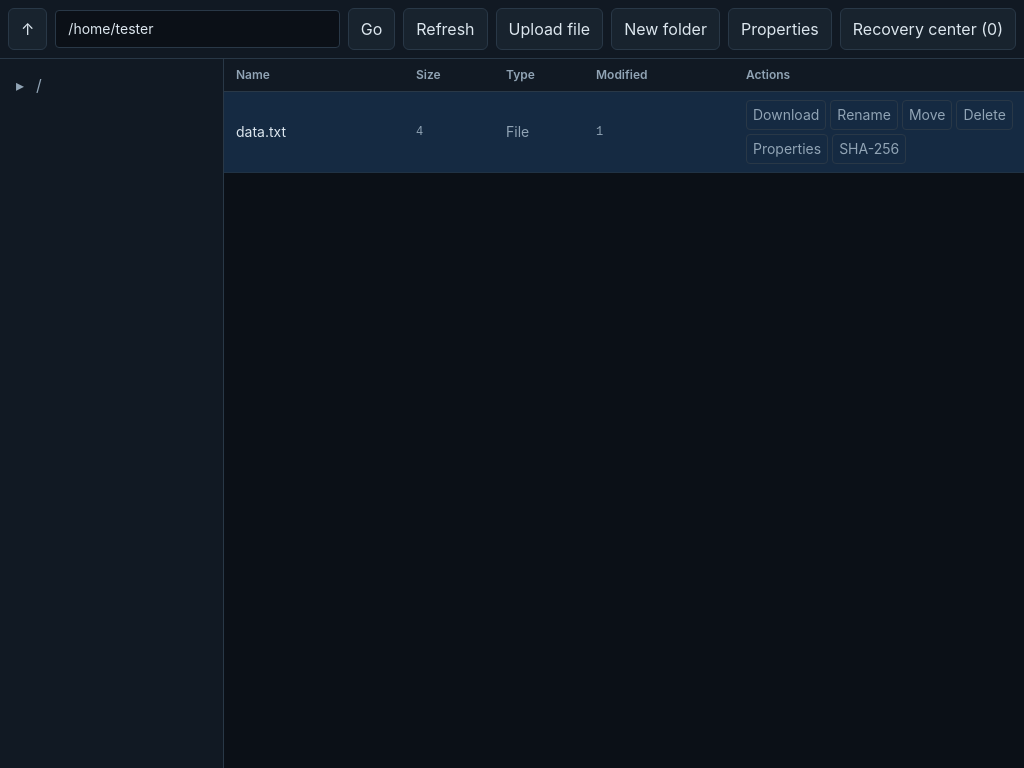
Test: ManualSftpWorkspace › closes the confirmation after a file deletion succeeds
Step 1. Press Delete in the table, box [224, 59, 1023, 173]
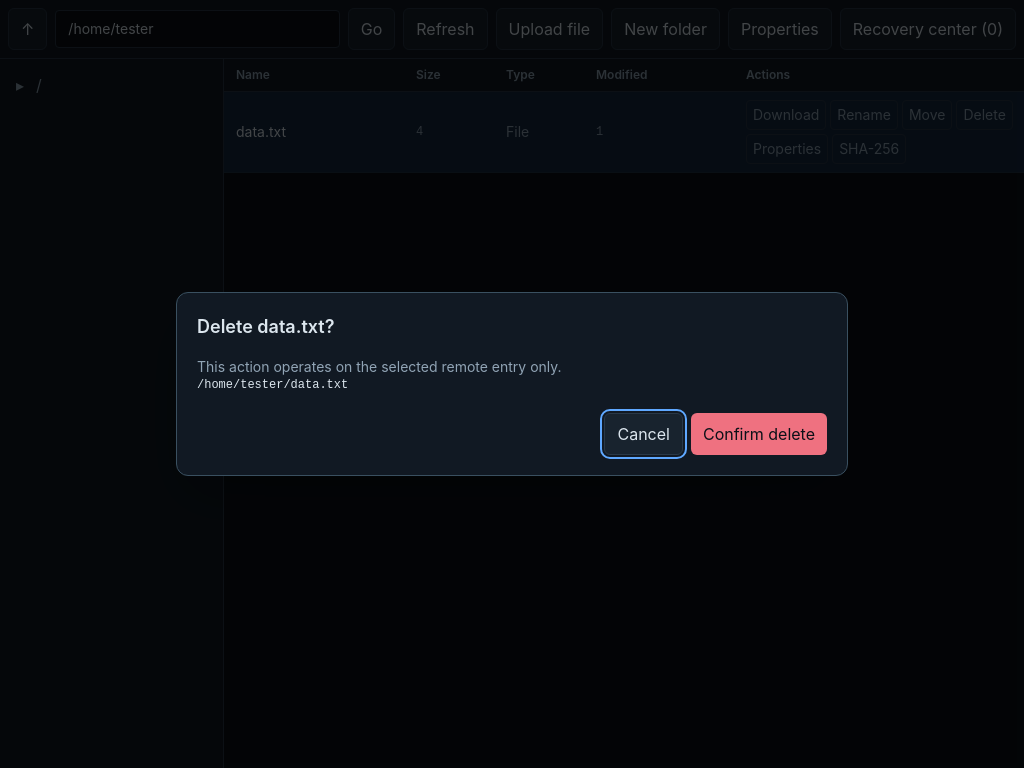
Step 2. Click the button "Confirm delete" → (759, 434), box [691, 413, 827, 455]
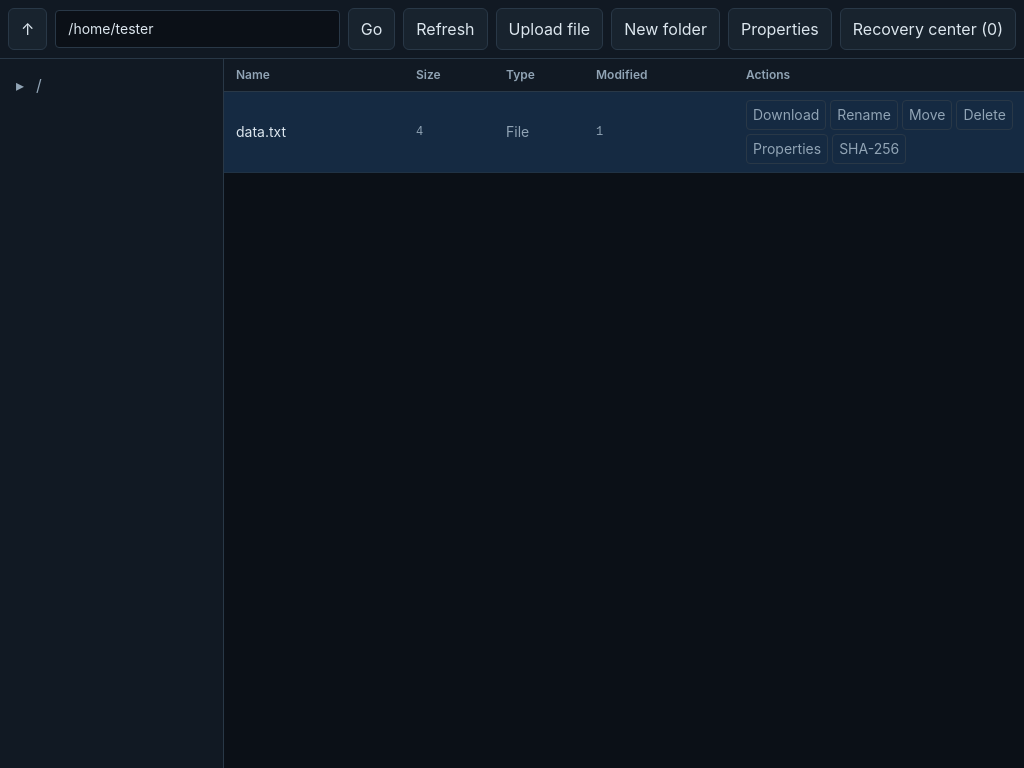
Expected: the heading "Delete data.txt?" is gone
